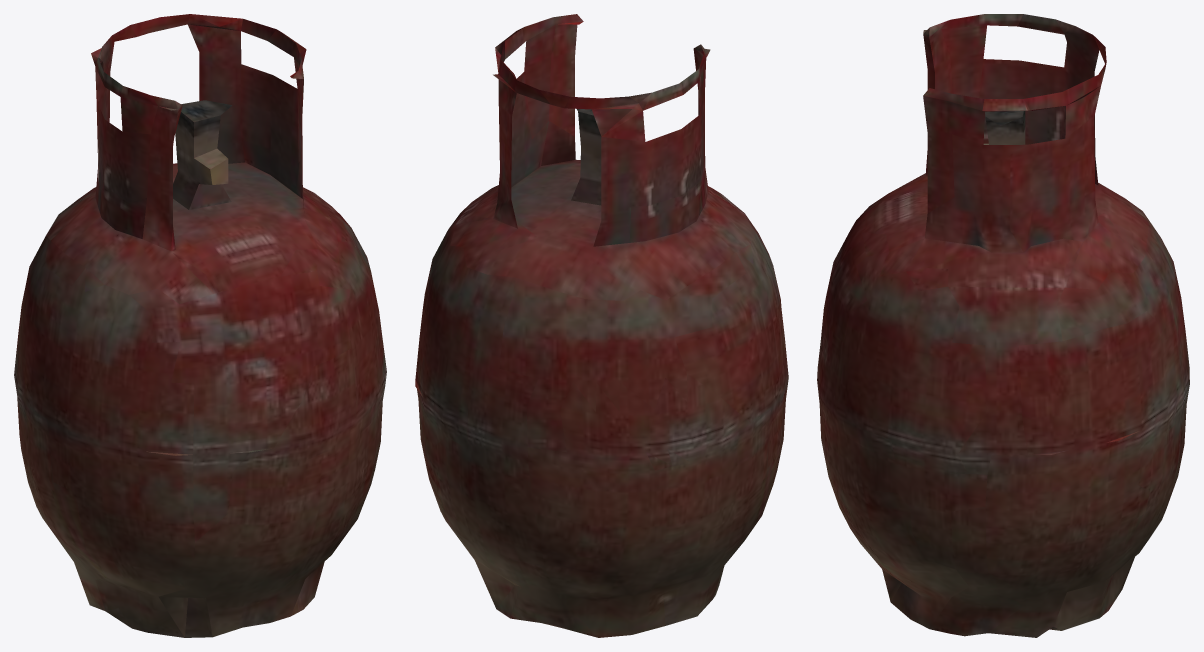
File: gas_tank.glb
The picture shows the model from 3 angles, left to right: view 1: azimuth 30°, elevation 25°; view 2: azimuth 150°, elevation 25°; view 3: azimuth 270°, elevation 25°; orthographic projection.
Parts seen in each view (by area): view 1: mesh; view 2: mesh; view 3: mesh.
Boxes of the visible parts, bbox=[...] form: mesh: bbox=[14, 14, 386, 637]; mesh: bbox=[415, 14, 788, 637]; mesh: bbox=[817, 14, 1189, 637].
Bounding box in the file's own units: 0.4042 × 0.64 × 0.4039.
Materials: 1 (1 with a texture image).
